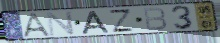3: (170, 5, 195, 31)
A: (22, 11, 55, 38), (81, 10, 110, 35)
B: (142, 6, 169, 32)
N: (45, 10, 77, 37)
Z: (108, 9, 137, 33)
